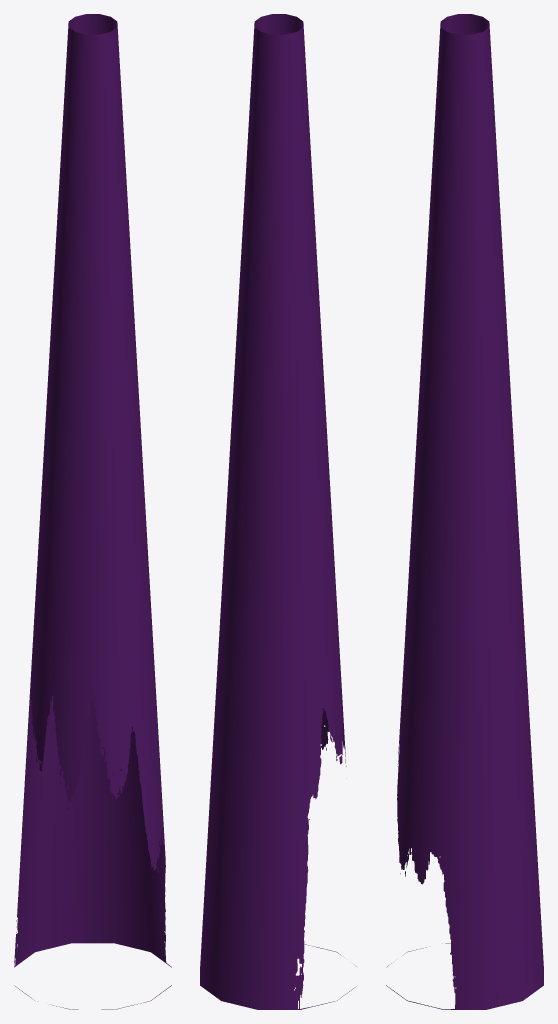
File: rays 2.FBX
3 renders of one model, left to right at view 1: azimuth 30°, elevation 25°; view 2: azimuth 150°, elevation 25°; view 3: azimuth 270°, elevation 25°, orthographic.
Visible parts, largest first — view 1: Cone001; view 2: Cone001; view 3: Cone001.
Boxes of the visible parts, <box> form: Cone001: <box>14,14,171,1009</box>; Cone001: <box>200,14,356,1009</box>; Cone001: <box>386,14,543,1009</box>.
Size of the model in its own units: 44.05 by 293 by 44.05.
